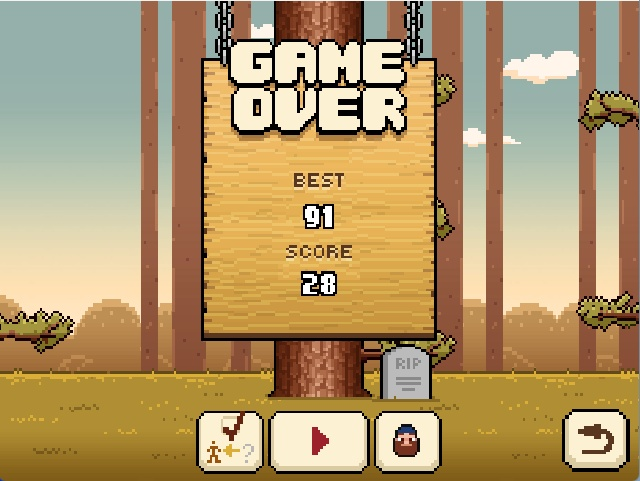game_over: (228, 37, 412, 141)
